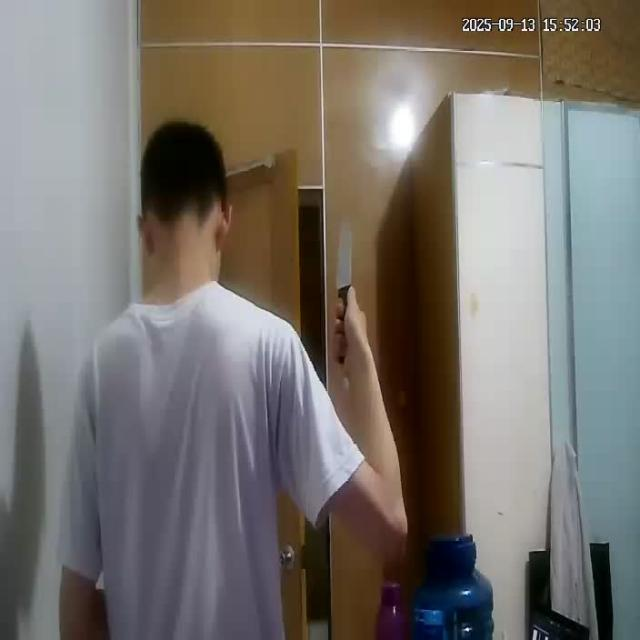senjata_tajam: (333, 211, 354, 303)
